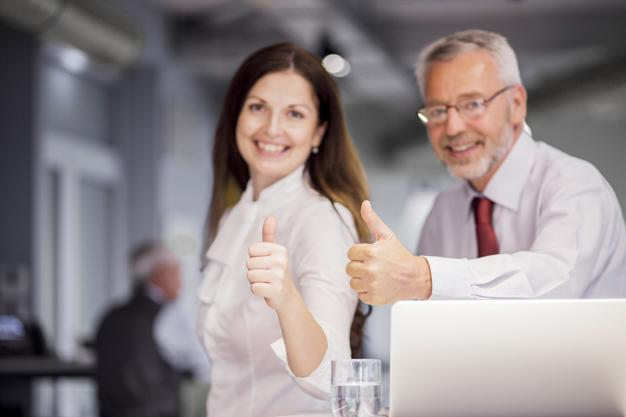thumbsup: (345, 199, 391, 306), (245, 215, 287, 298)
